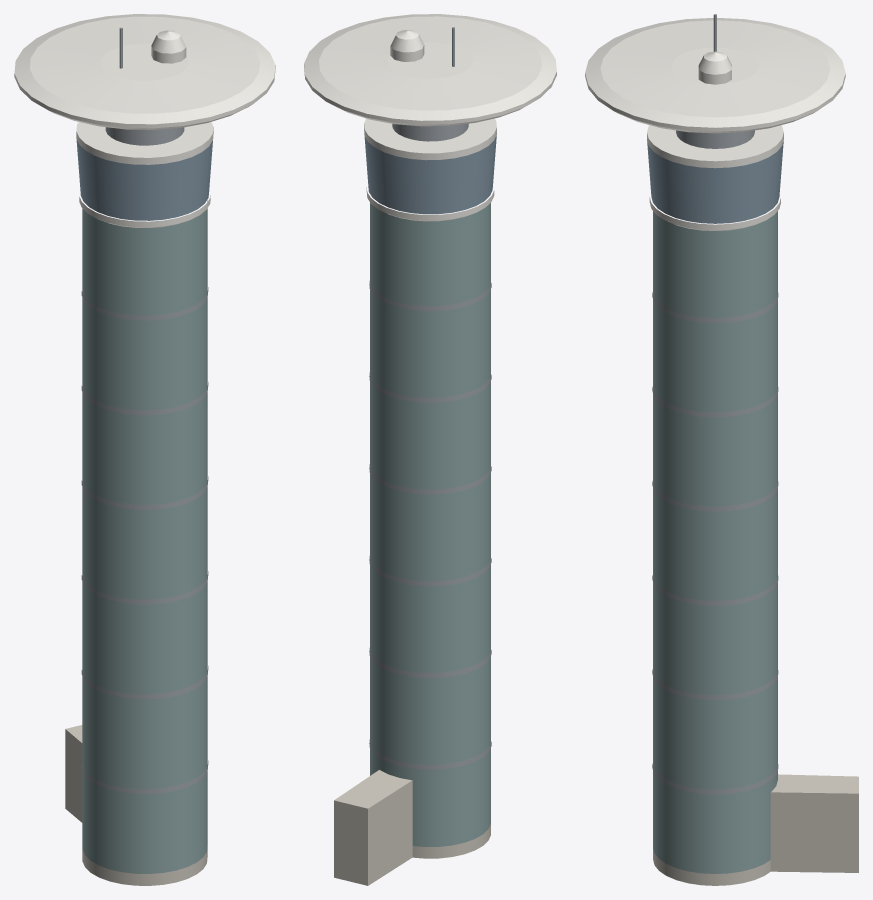
File: paris-cdg-control-tower.glb
3 views of the same model, side by side, from view 1: azimuth 30°, elevation 25°; view 2: azimuth 150°, elevation 25°; view 3: azimuth 270°, elevation 25° (orthographic). The views are drawn at different scales.
Visible parts, largest first — view 1: Paris-CDG Tour Sud (control tower); view 2: Paris-CDG Tour Sud (control tower); view 3: Paris-CDG Tour Sud (control tower).
Boxes of the visible parts, bbox=[...] form: Paris-CDG Tour Sud (control tower): bbox=[14, 14, 275, 885]; Paris-CDG Tour Sud (control tower): bbox=[304, 14, 556, 885]; Paris-CDG Tour Sud (control tower): bbox=[585, 14, 858, 885].
Size of the model in its own units: 23.8 by 84 by 25.
